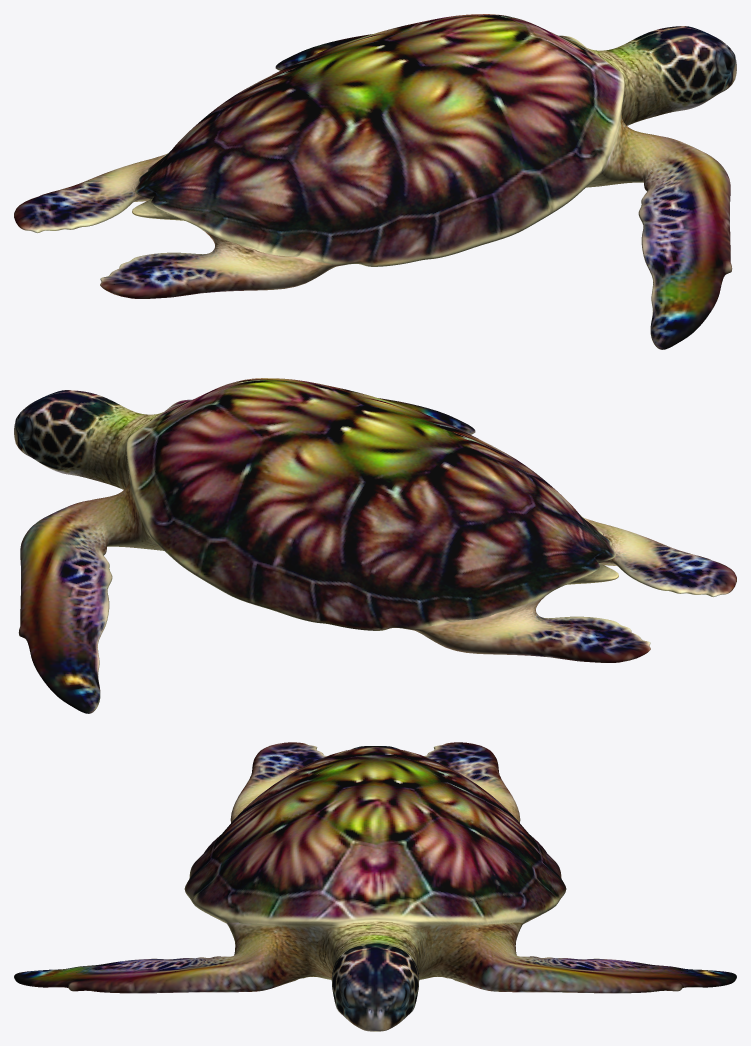
Rendered from model_perturbed.obj.
3 views of the same model, one above another, from view 1: azimuth 30°, elevation 25°; view 2: azimuth 150°, elevation 25°; view 3: azimuth 270°, elevation 25° (orthographic). The views are drawn at different scales.
Visible parts, largest first — view 1: 10042_Sea_Turtle_V1; view 2: 10042_Sea_Turtle_V1; view 3: 10042_Sea_Turtle_V1.
Boxes of the visible parts, <box> form: 10042_Sea_Turtle_V1: <box>14,14,736,349</box>; 10042_Sea_Turtle_V1: <box>14,378,736,713</box>; 10042_Sea_Turtle_V1: <box>14,742,736,1031</box>.
Bounding box in the file's own units: 102 × 25.77 × 102.
1 material, 1 textured.
